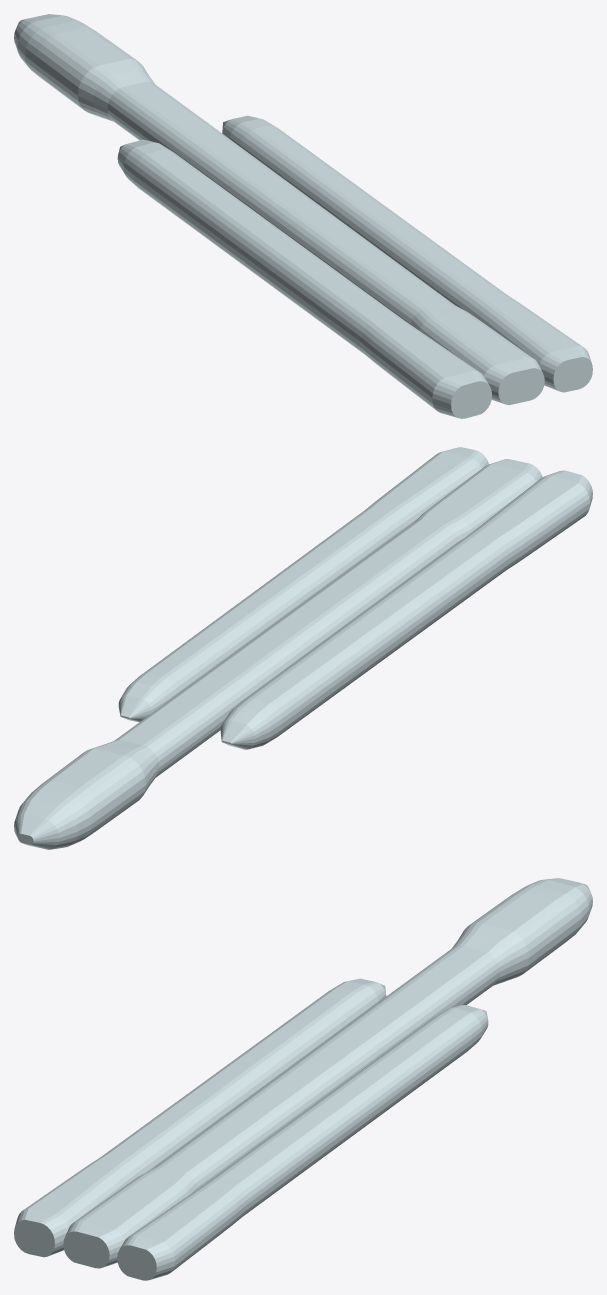
File: FALH.glb
3 views of the same model, one above another, from view 1: azimuth 30°, elevation 25°; view 2: azimuth 150°, elevation 25°; view 3: azimuth 330°, elevation 25° (orthographic).
Parts seen in each view (by area): view 1: Aircraft visual hull; view 2: Aircraft visual hull; view 3: Aircraft visual hull.
Part boxes in pixels (bbox=[...]): Aircraft visual hull: bbox=[14, 14, 592, 418]; Aircraft visual hull: bbox=[14, 447, 592, 849]; Aircraft visual hull: bbox=[14, 878, 592, 1280].
Bounding box in the file's own units: 12.61 × 3.65 × 68.66.
